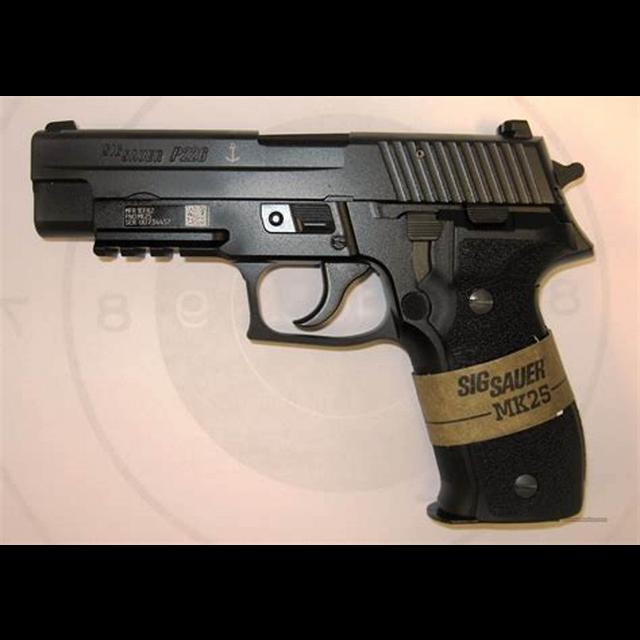handgun: (28, 114, 606, 526)
